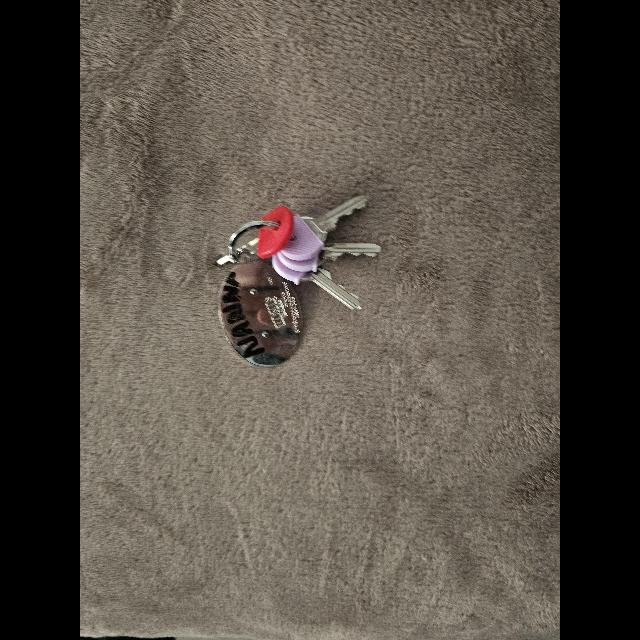Keys: (218, 196, 378, 312)
